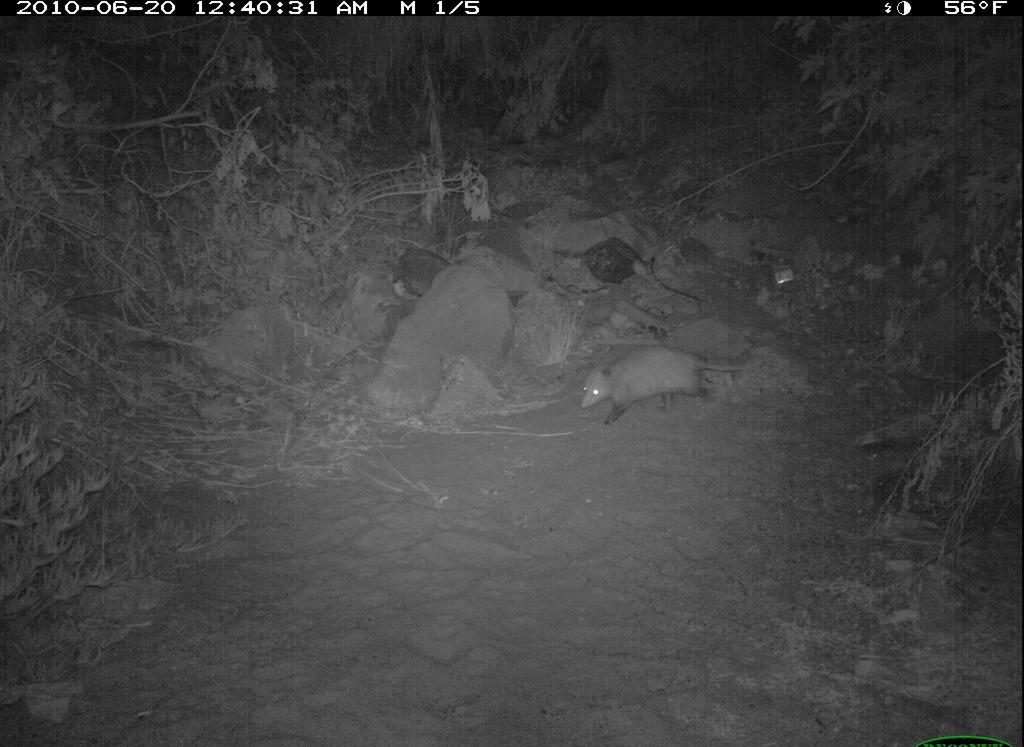opossum: (578, 342, 759, 434)
